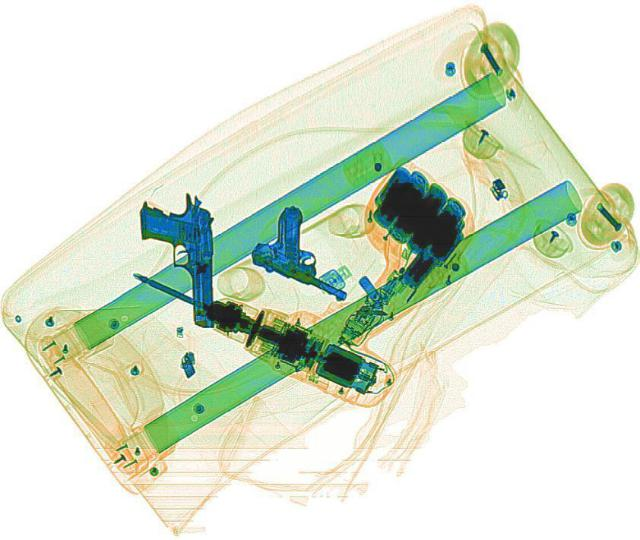Gun: (242, 199, 384, 299), (137, 190, 215, 326)
